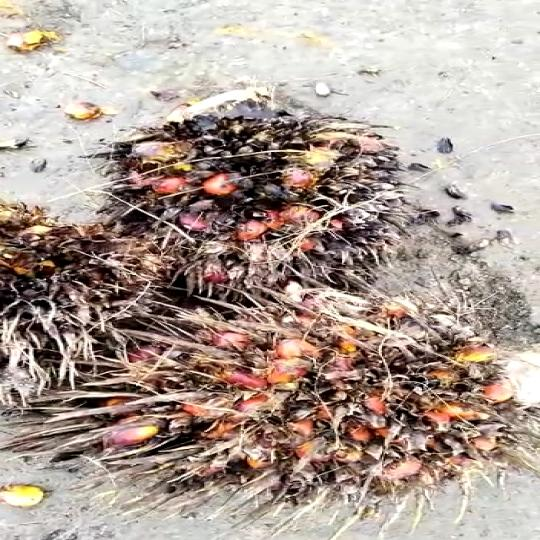terlalu masak: (17, 292, 514, 511), (73, 82, 420, 298)
